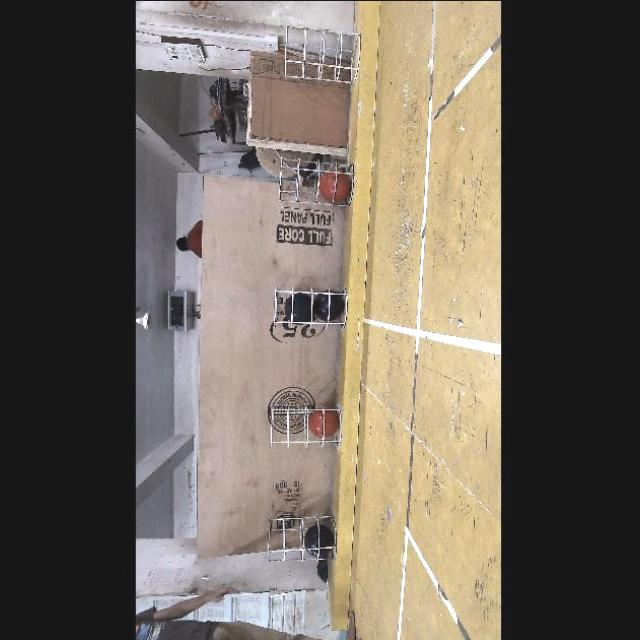P: (313, 289, 347, 321), (284, 292, 312, 324), (305, 524, 333, 554)
R: (318, 166, 349, 200), (309, 406, 339, 436)
S: (277, 24, 361, 86), (262, 504, 340, 562), (271, 154, 357, 206), (268, 282, 348, 332), (266, 404, 340, 448)
